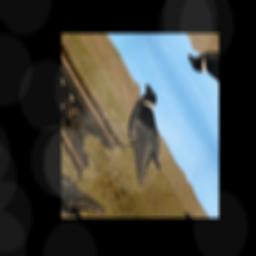Crow: (98, 80, 191, 188)
